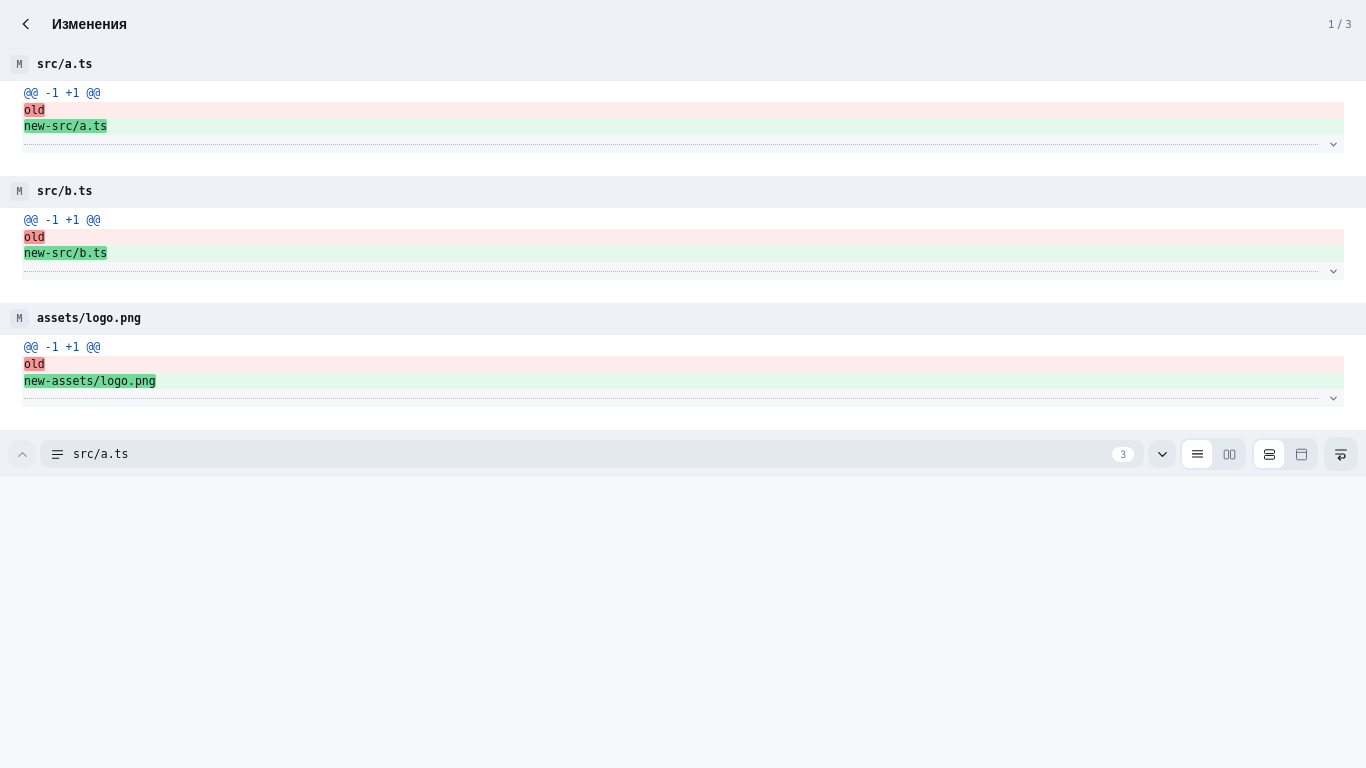
Test case: GitDiffStage › switches the sheet between a flat list and a folder tree
The width and height of the screenshot is (1366, 768).
Expected: the text "1 / 3" is shown, [1328,17,1352,31]
Step 1. Click the button with aria-label "Изменённые файлы" → (101, 454), box [40,440,1144,468]
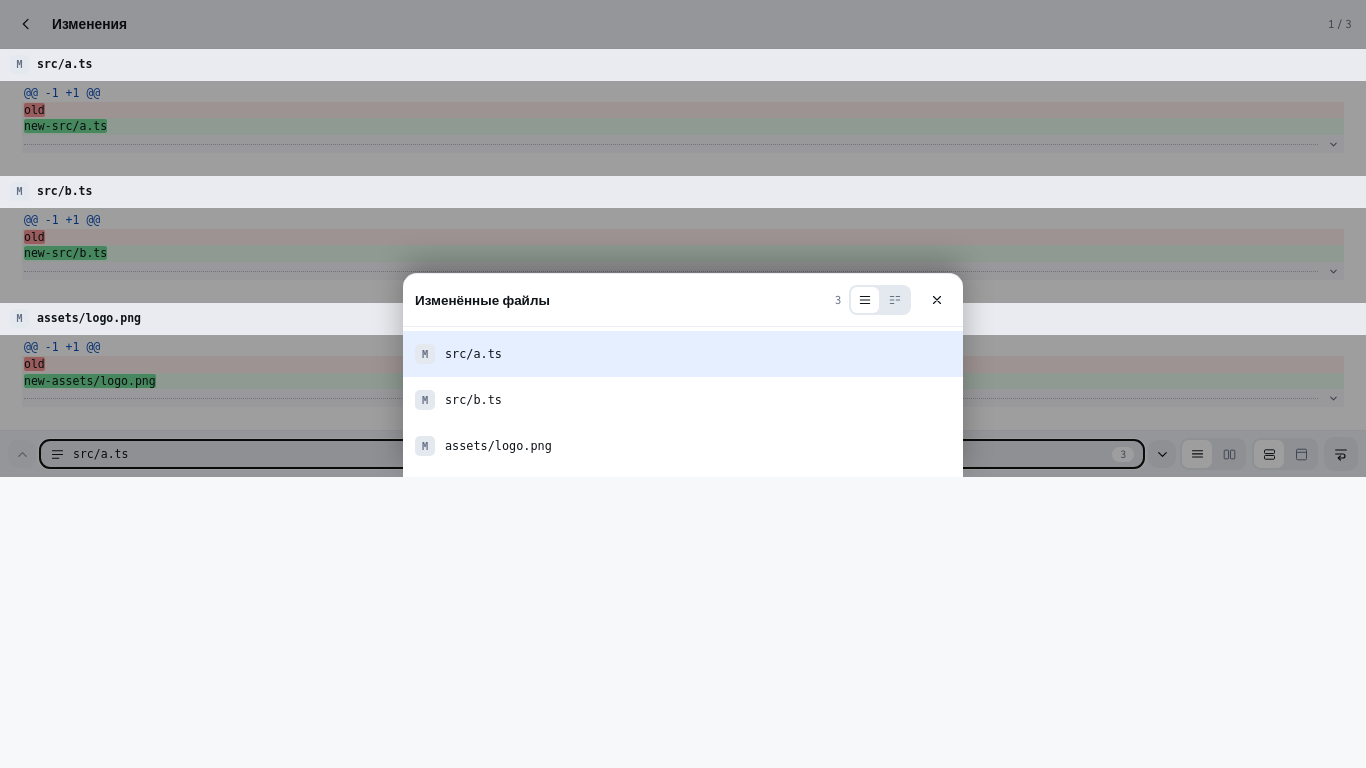
Step 2. Click the button named "Дерево папок" → (895, 300), box [881,287,909,313]
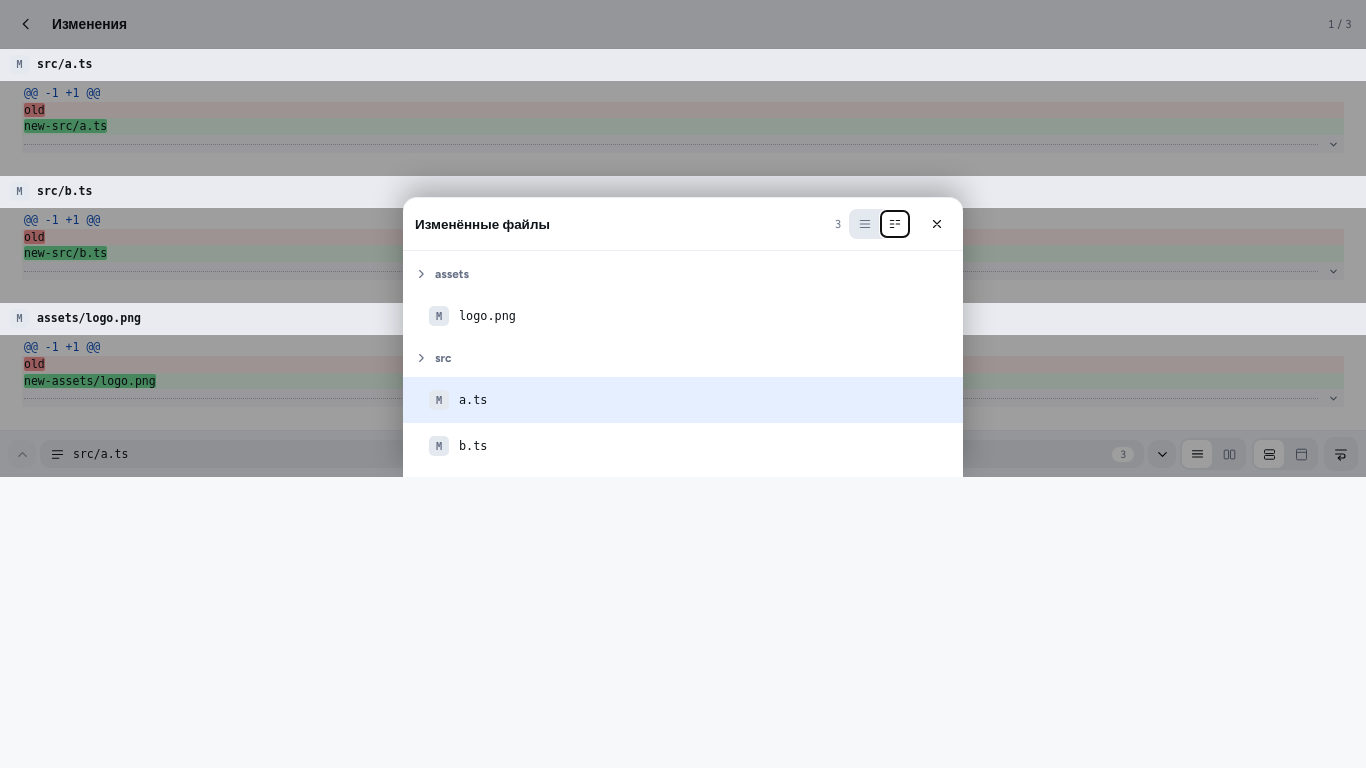
Result: the button "assets" is shown at [403,255,963,293]
Step 3. Click the button "src" → (422, 358), box [403,339,963,377]
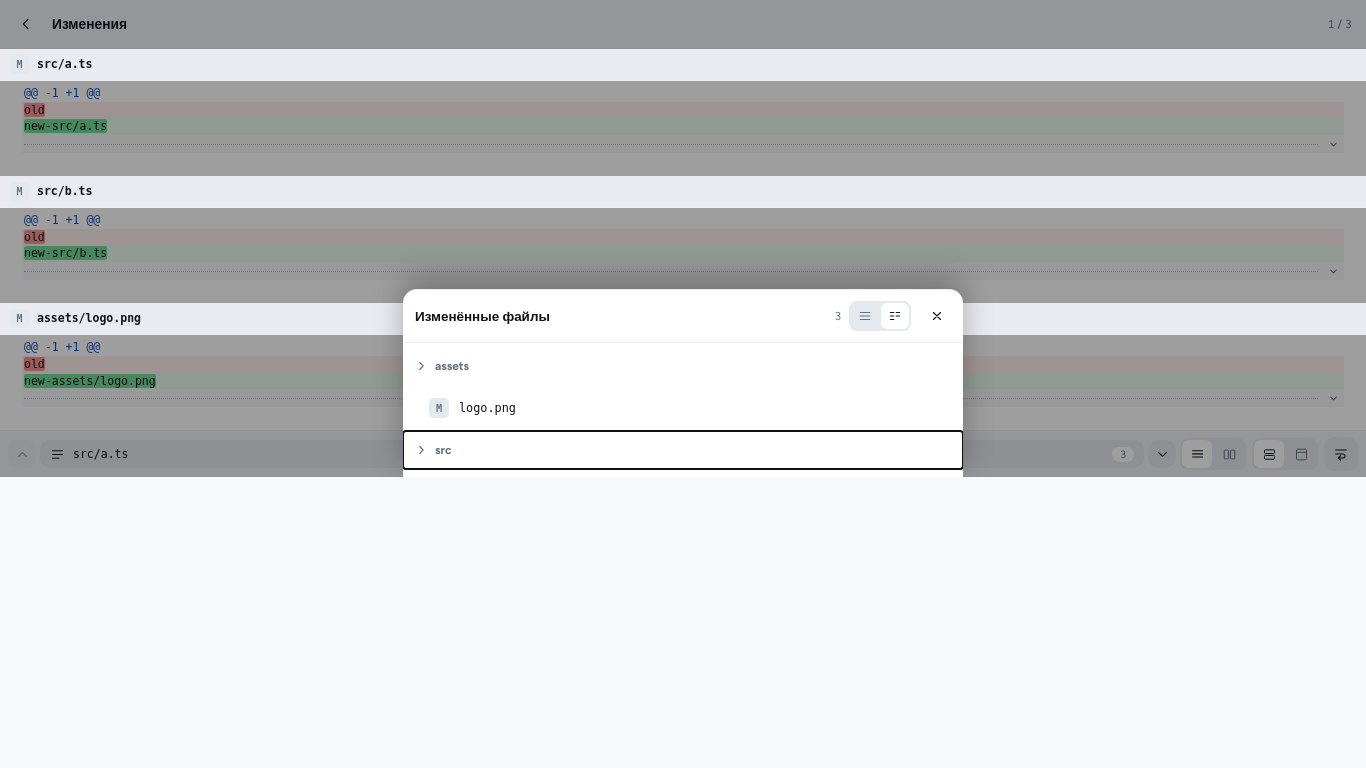
Step 4. Click the button "src" → (422, 450), box [403,431,963,469]
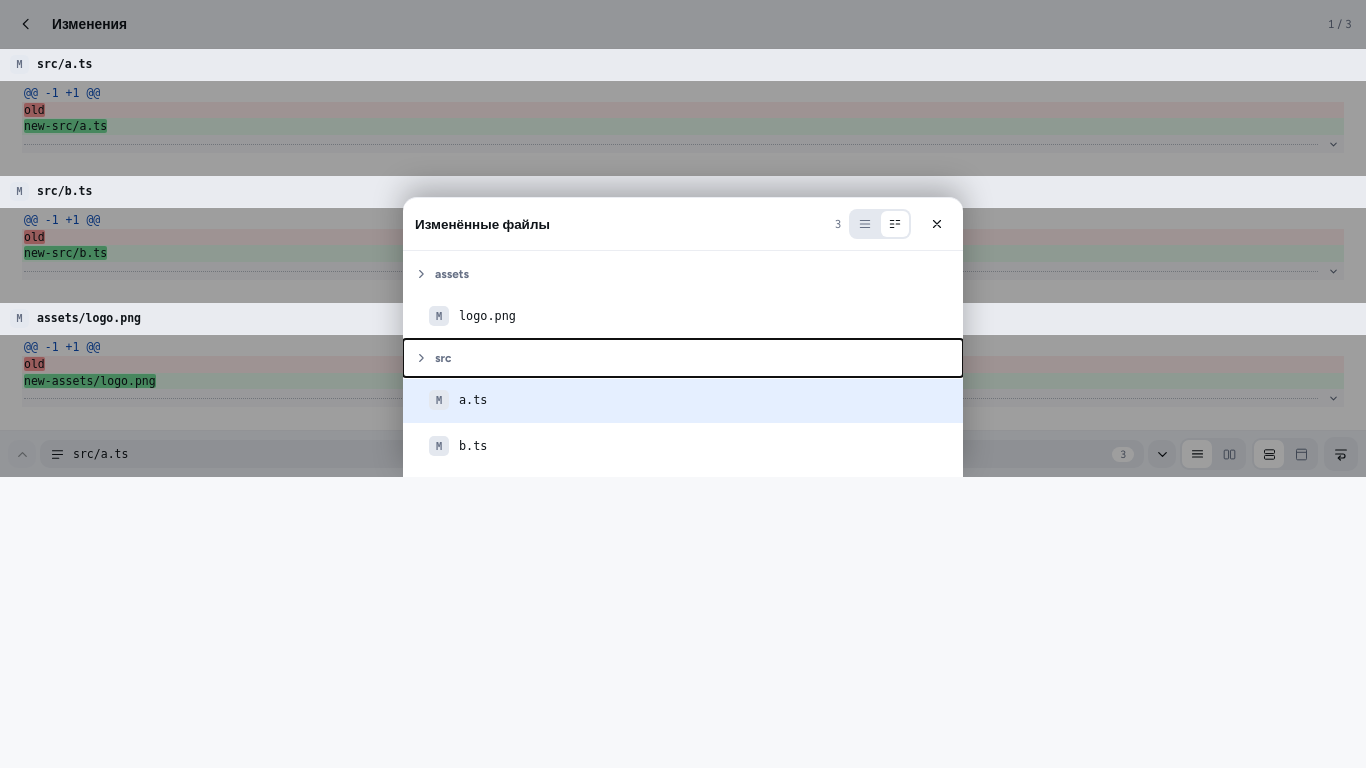
Result: the button with aria-label "src/a.ts" is shown at [403,377,963,423]
Note: Picking from the tree still jumps, and the choice is remembered.
Step 5. Click the button with aria-label "src/b.ts" → (439, 446), box [403,423,963,469]
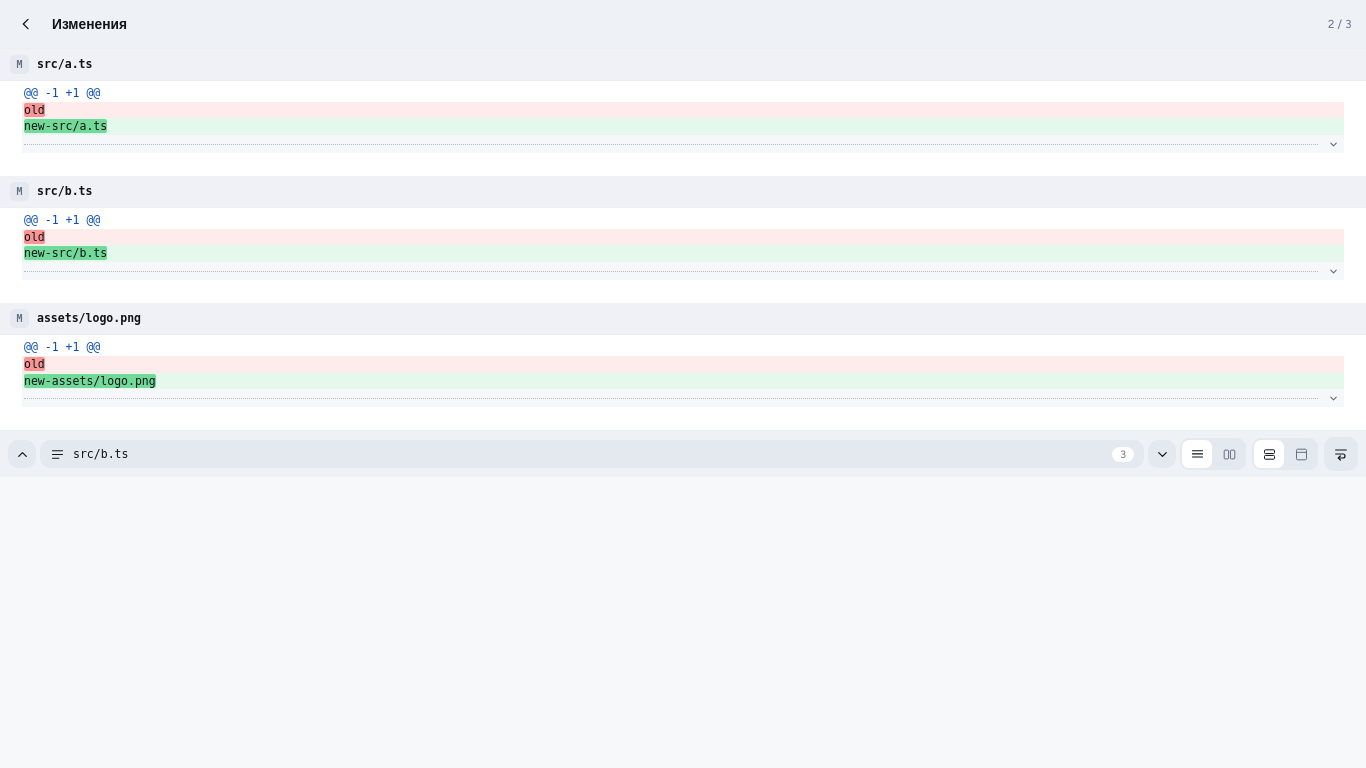
Result: the text "2 / 3" is shown at [1328,17,1352,31]
Step 6. Click the button with aria-label "Изменённые файлы" → (101, 454), box [40,440,1144,468]
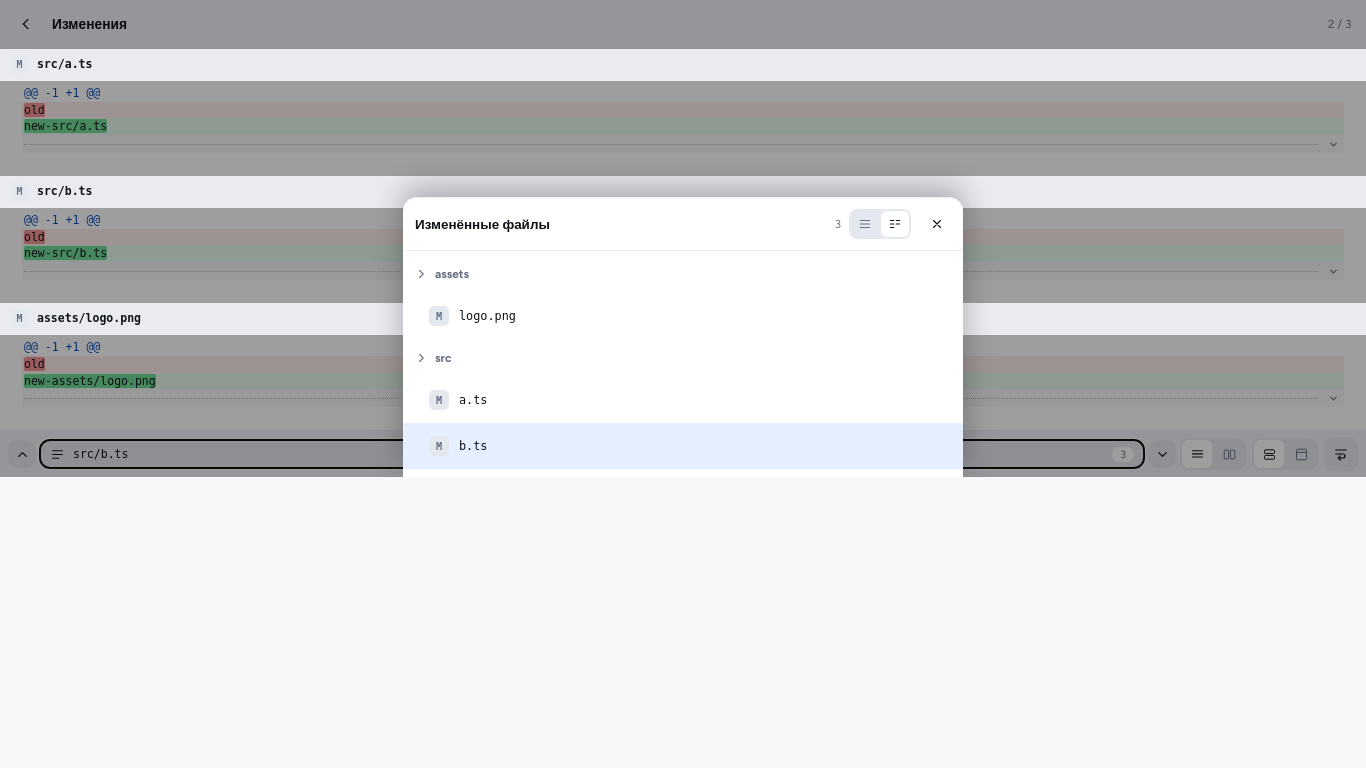
Result: the button "assets" is shown at [403,255,963,293]
